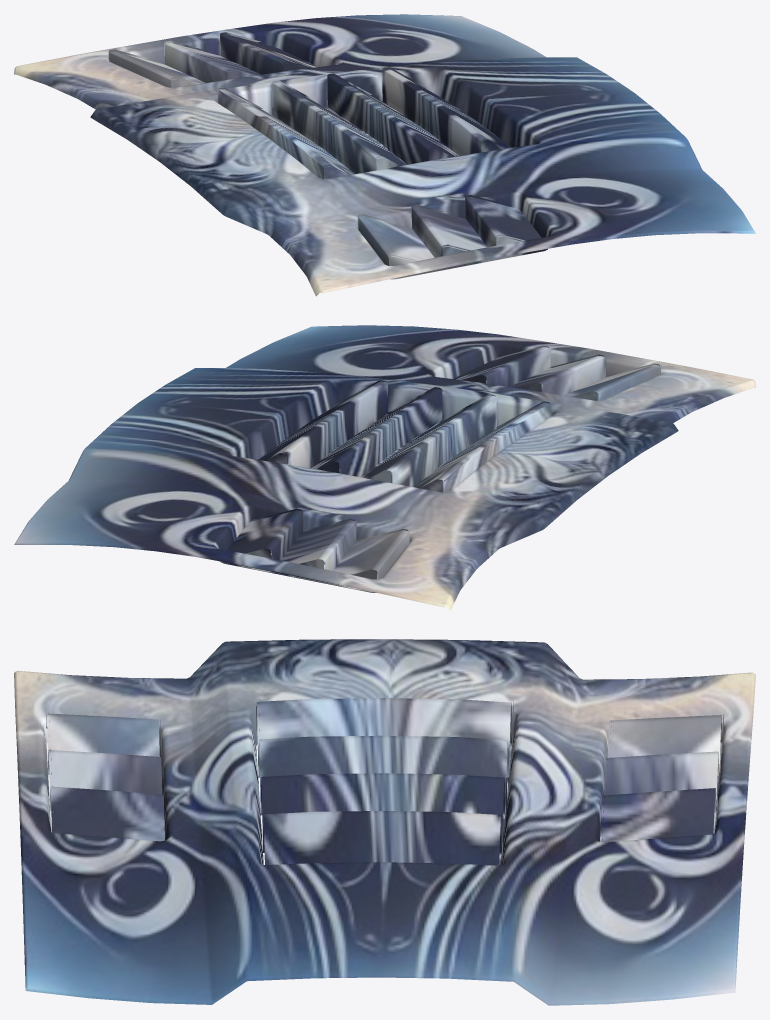
The model's file is CocheCofre.obj.
The picture shows the model from 3 angles, top to bottom: view 1: azimuth 30°, elevation 25°; view 2: azimuth 150°, elevation 25°; view 3: azimuth 270°, elevation 25°; orthographic projection. The views are drawn at different scales.
Parts seen in each view (by area): view 1: Cofre; view 2: Cofre; view 3: Cofre.
Part boxes in pixels (x1,y1,x2,y2): Cofre: (14,14,755,296); Cofre: (14,325,755,610); Cofre: (14,639,755,1005).
Bounding box in the file's own units: 6.64 × 1.08 × 7.45.
